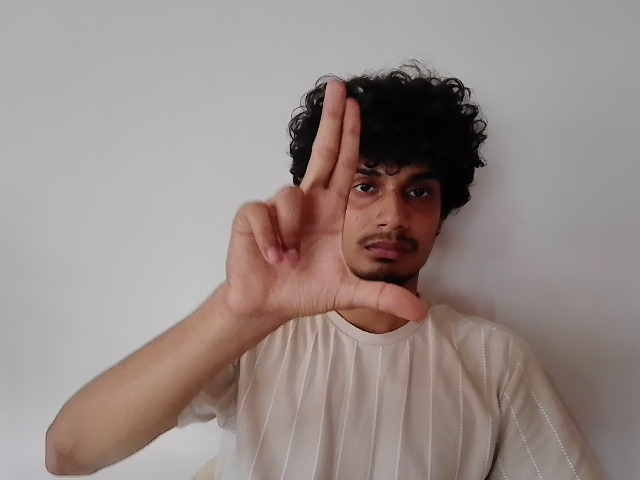no: (223, 86, 428, 330)
